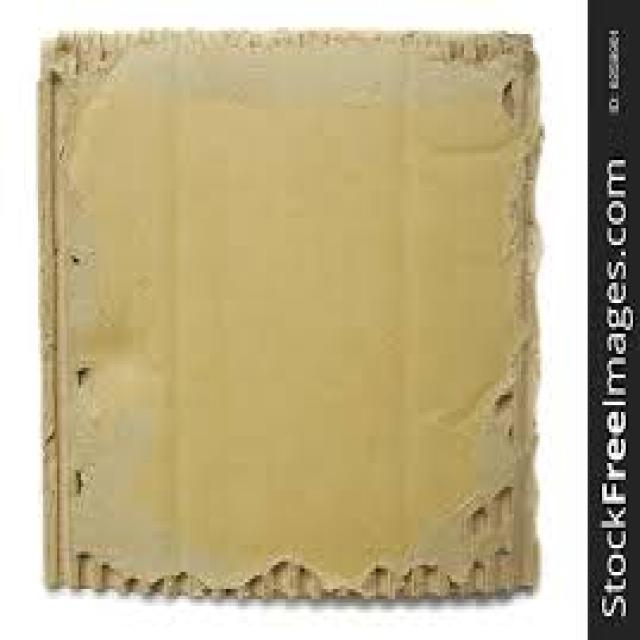cardboard: (36, 27, 538, 599)
